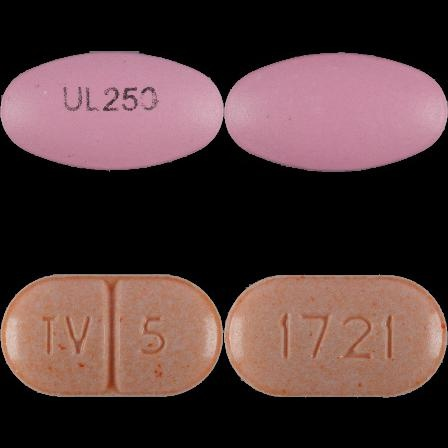58118-0040: (0, 0, 224, 224)
